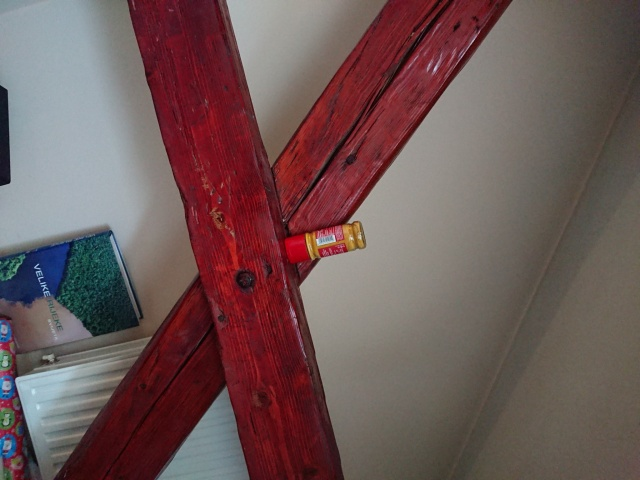Kotanyi Curry Spices Mix 70g: (283, 219, 369, 266)
